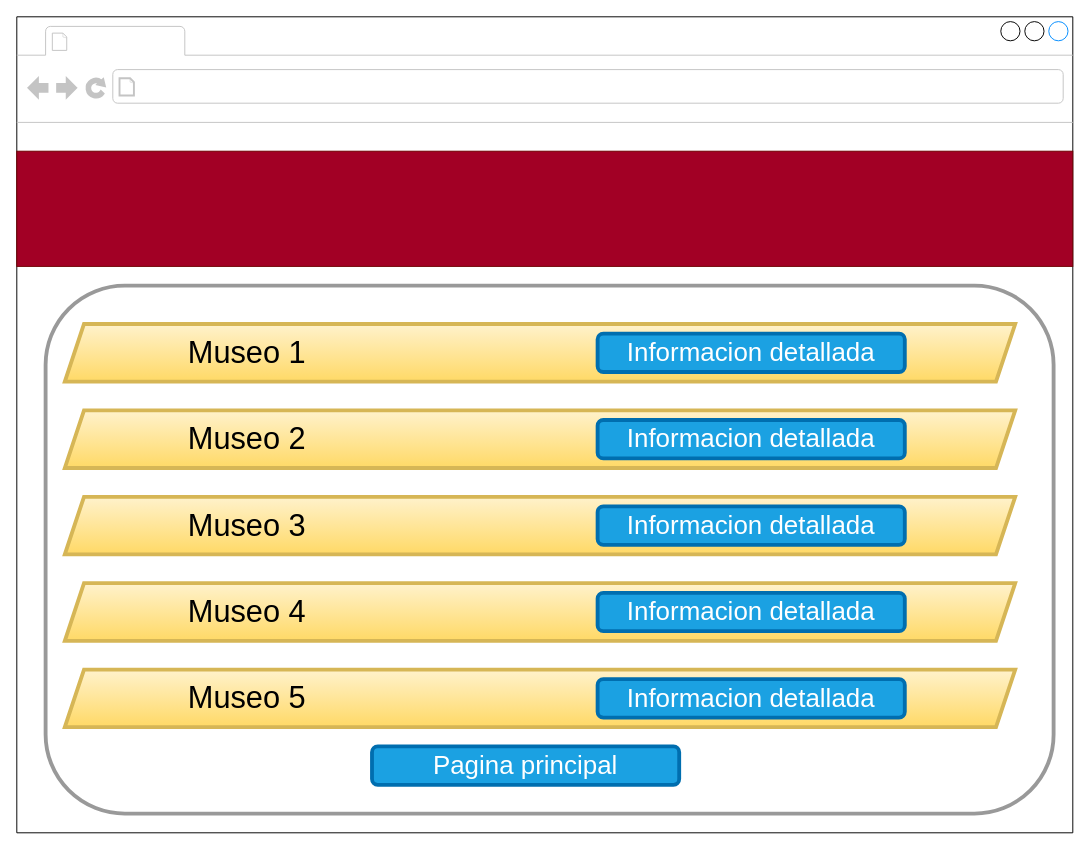
Image size: 1090x850. Some labels were removed from this diagram. The shapes that lost their labels are listed below. From the top down, each one's centre as x and y in pixels, then its label:
At (126,40): "Page 1".
At (261,86): "https://www.draw.io".
At (544,208): "Listado de Museos".
